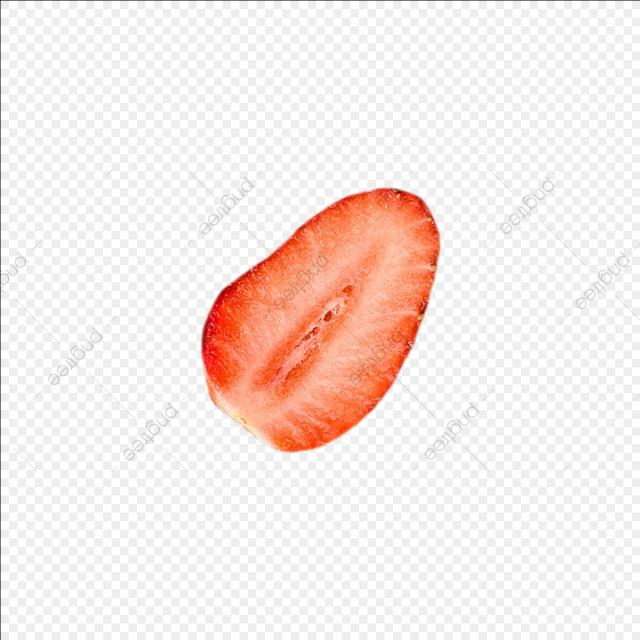strawberry: (199, 152, 456, 482)
